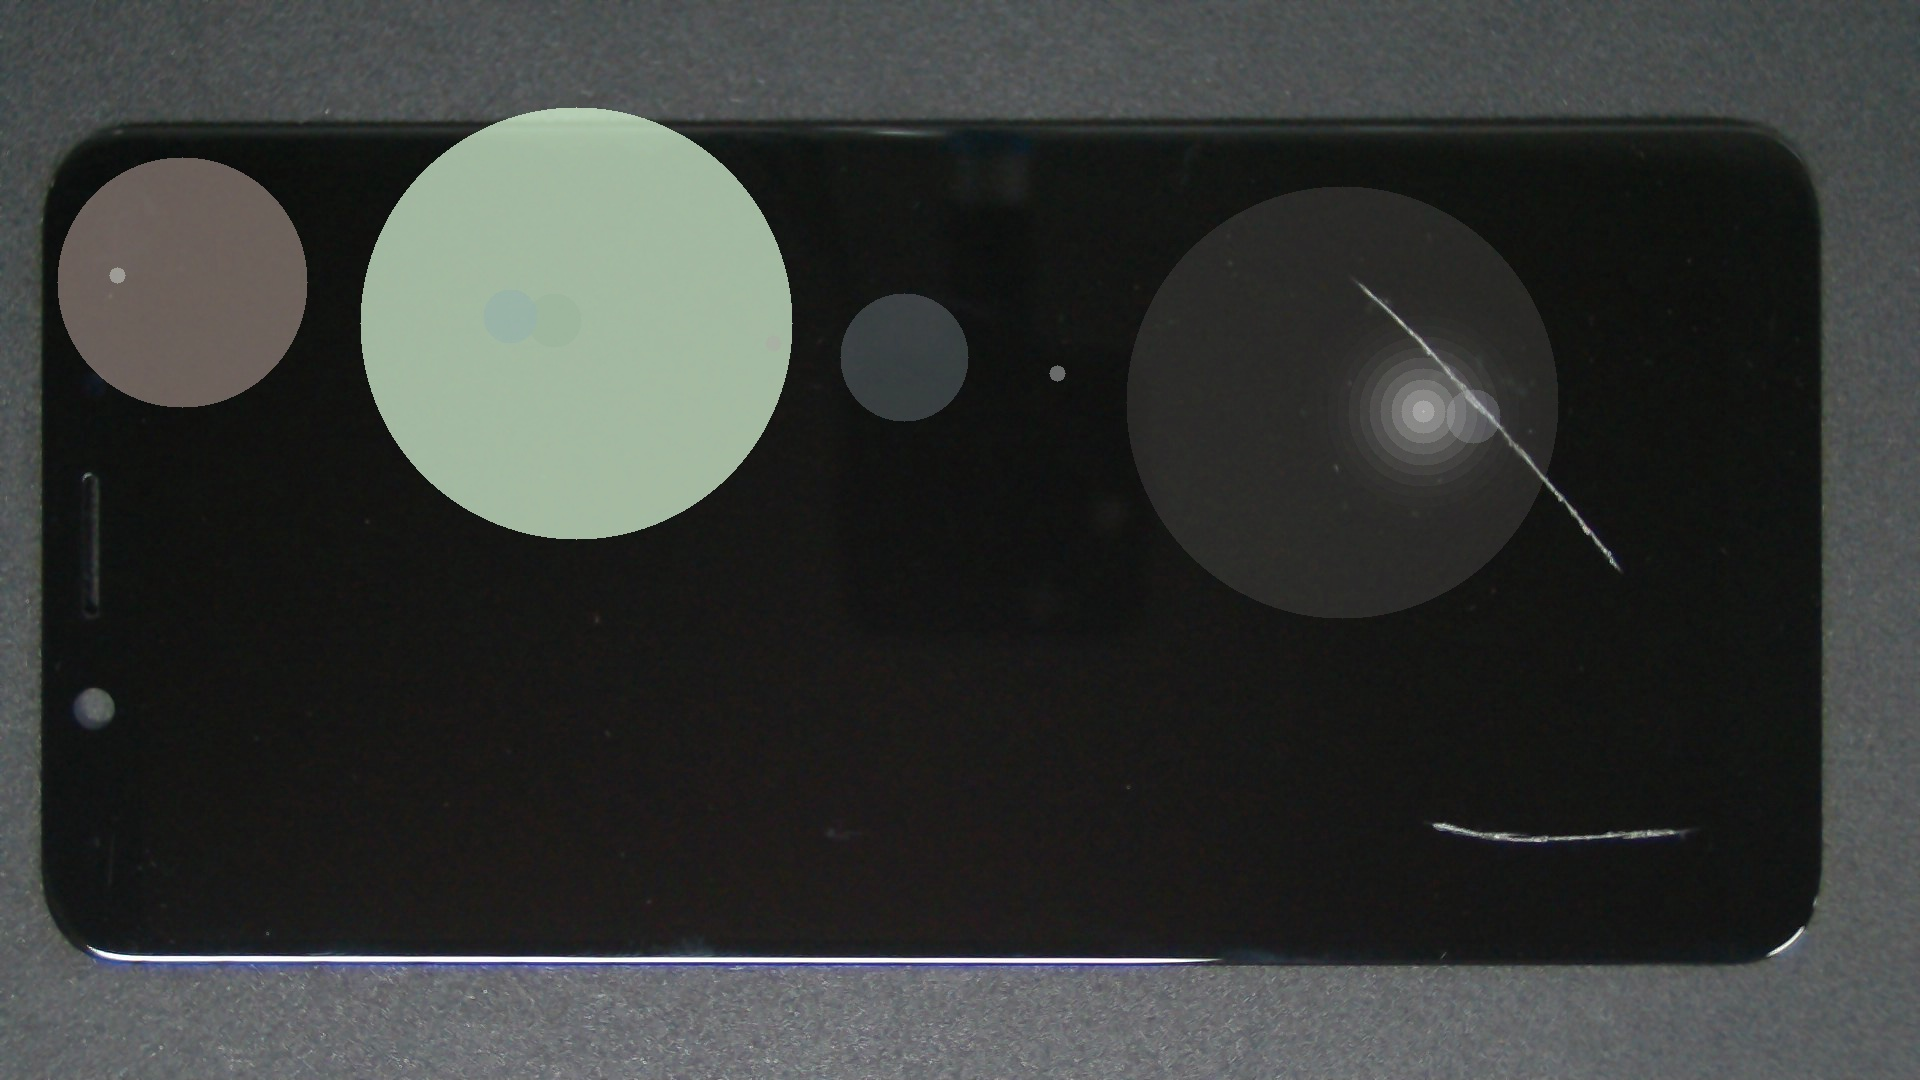oil: (719, 410, 1920, 1080), (678, 138, 1920, 419)
